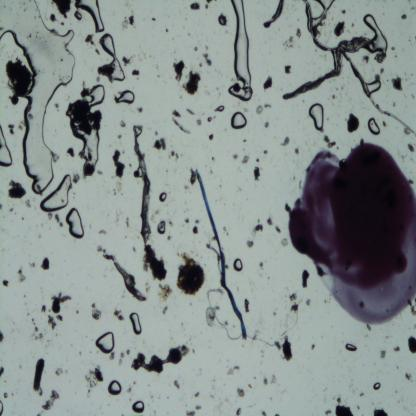Air bubble: (0, 0, 76, 193), (228, 0, 253, 102), (39, 173, 72, 214), (100, 33, 124, 83), (362, 12, 388, 54), (74, 0, 104, 33), (73, 128, 99, 166), (66, 206, 86, 240), (312, 0, 334, 26), (95, 328, 115, 356), (0, 128, 13, 168), (308, 103, 325, 132), (88, 86, 107, 107), (230, 109, 248, 131), (114, 88, 136, 104), (130, 311, 142, 336), (107, 378, 123, 396), (368, 116, 380, 136), (366, 80, 381, 95), (156, 219, 168, 236), (232, 257, 244, 273), (132, 400, 144, 414), (217, 13, 228, 27), (158, 190, 168, 204), (345, 342, 357, 353), (372, 381, 381, 391), (215, 104, 225, 112), (0, 401, 5, 415)
Background material: (129, 343, 190, 376), (67, 84, 102, 132), (175, 251, 206, 298), (3, 60, 32, 109), (142, 244, 167, 282), (170, 110, 192, 135), (27, 312, 45, 342), (274, 335, 294, 362), (49, 292, 72, 314), (32, 357, 45, 394), (111, 148, 126, 180), (40, 389, 61, 411), (6, 177, 26, 200), (84, 365, 104, 388), (184, 69, 200, 97), (49, 1, 72, 20), (247, 222, 263, 248), (334, 396, 354, 416), (171, 59, 187, 83), (261, 370, 279, 390), (157, 282, 173, 302), (121, 14, 138, 30), (89, 301, 103, 320), (82, 162, 96, 180), (347, 112, 359, 132), (255, 101, 272, 115), (333, 18, 346, 36), (151, 136, 167, 150), (16, 264, 27, 284), (288, 292, 298, 313), (94, 238, 106, 255), (323, 135, 336, 150), (39, 256, 51, 272), (406, 335, 416, 354), (168, 146, 181, 160), (52, 363, 64, 378), (260, 139, 270, 157), (226, 364, 241, 376), (372, 405, 389, 415), (374, 51, 387, 64), (392, 76, 403, 91), (300, 269, 309, 287), (47, 314, 57, 330), (263, 74, 273, 90), (84, 32, 95, 46), (186, 406, 202, 415), (189, 1, 202, 12), (113, 308, 124, 320), (401, 371, 415, 380), (254, 163, 260, 184), (123, 54, 134, 65), (204, 52, 212, 67), (193, 218, 200, 235), (236, 387, 246, 398), (131, 65, 141, 76), (97, 226, 107, 236), (282, 135, 291, 146), (241, 153, 249, 165), (173, 377, 180, 390), (0, 278, 10, 287), (284, 63, 292, 74), (262, 121, 271, 130), (196, 118, 206, 126), (193, 43, 200, 54), (274, 223, 281, 234), (40, 303, 47, 314), (296, 27, 303, 38), (281, 236, 288, 247), (205, 113, 214, 121), (291, 144, 298, 154), (0, 364, 5, 377), (119, 120, 127, 128), (0, 329, 4, 345), (265, 219, 274, 226), (379, 349, 386, 358), (393, 345, 400, 354), (311, 340, 316, 352), (208, 132, 214, 142), (408, 143, 414, 153), (236, 406, 242, 416), (136, 106, 144, 113), (401, 13, 408, 19)
Cellulose filter fibre: (304, 0, 416, 136), (282, 38, 373, 99), (104, 251, 147, 303), (134, 130, 151, 248), (264, 0, 286, 29)
Cotton: (194, 171, 246, 342)
Pen: (285, 141, 416, 324)
